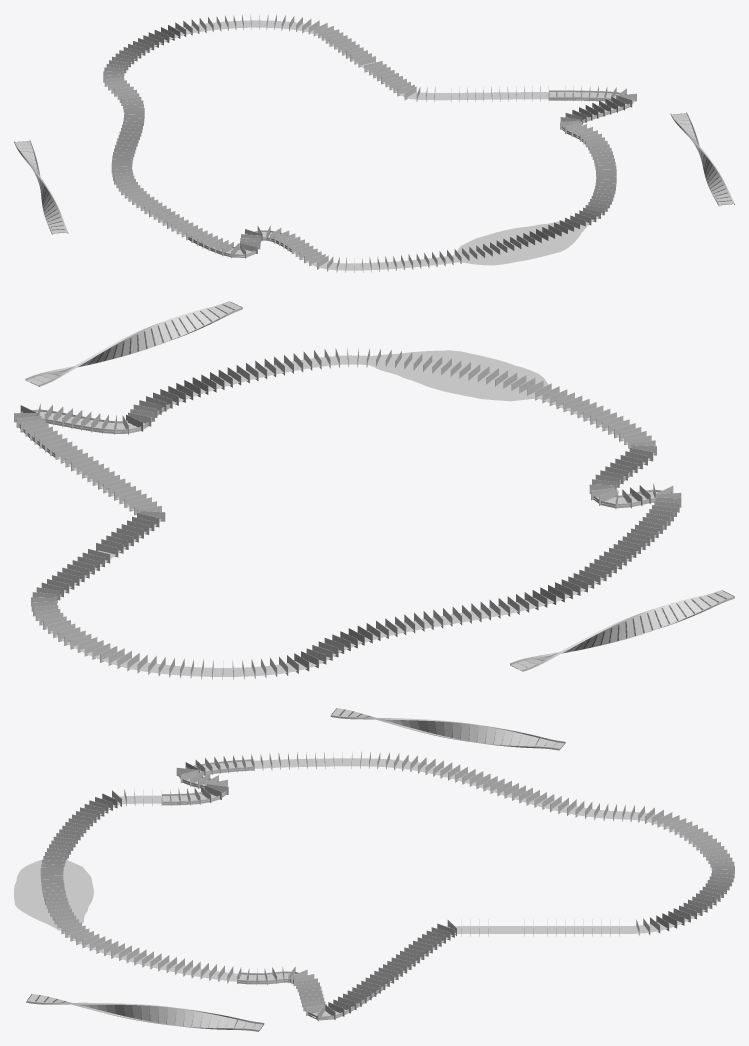
Rendered from Track6.fbx.
3 views of the same model, one above another, from view 1: azimuth 30°, elevation 25°; view 2: azimuth 150°, elevation 25°; view 3: azimuth 270°, elevation 25° (orthographic). The views are drawn at different scales.
Visible parts, largest first — view 1: TrackFloor, TrackHolo.003, TrackHolo.001, TrackWalls, TrackFloor.002, TrackWalls.002, TrackHolo; view 2: TrackFloor, TrackHolo.001, TrackHolo.003, TrackFloor.002, TrackWalls, TrackWallsAI.001, TrackWallsAI.002, TrackStructure.001, TrackStructure.003; view 3: TrackFloor, TrackFloor.003, TrackFloor.001, TrackWalls, TrackFloor.002, TrackWallsAI.001, TrackWallsAI.002, TrackHolo, TrackWalls.002.
Boxes of the visible parts, x1,y1,x2,y2 form: TrackFloor: (107,20,634,270); TrackHolo.003: (672,113,734,204); TrackHolo.001: (16,143,67,233); TrackWalls: (188,90,634,255); TrackFloor.002: (107,27,634,270); TrackWalls.002: (188,99,633,257); TrackHolo: (202,92,626,254); TrackFloor: (36,350,659,676); TrackHolo.001: (511,590,733,670); TrackHolo.003: (27,301,241,385); TrackFloor.002: (38,364,659,676); TrackWalls: (19,398,674,528); TrackWallsAI.001: (510,590,734,671); TrackWallsAI.002: (25,301,242,386); TrackStructure.001: (510,590,734,670); TrackStructure.003: (26,301,241,386); TrackFloor: (14,758,727,1017); TrackFloor.003: (78,1004,260,1029); TrackFloor.001: (383,720,563,748); TrackWalls: (162,759,383,1018); TrackFloor.002: (15,766,724,1018); TrackWallsAI.001: (330,708,565,750); TrackWallsAI.002: (26,994,264,1031); TrackHolo: (162,761,351,1018); TrackWalls.002: (162,768,383,1020).
Bounding box in the file's own units: 169844 × 4070 × 159888.
